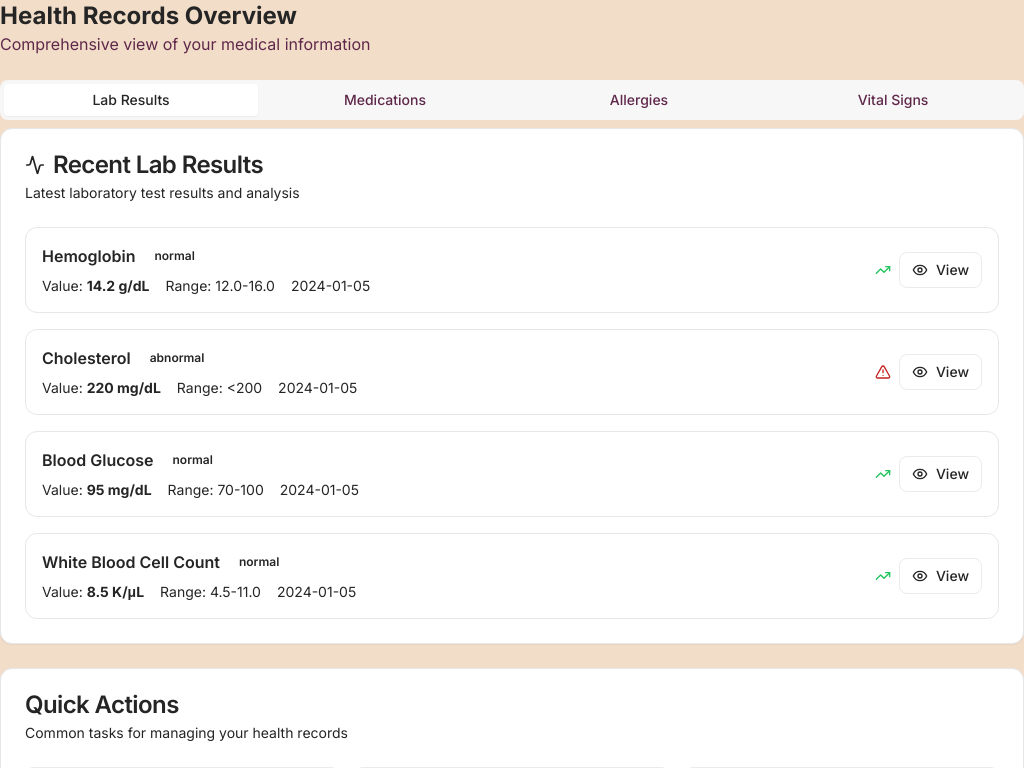
Test case: HealthRecordsOverview › Tab Navigation › should switch to medications tab when clicked
Click the tab "Medications": (385, 100) [258,84,512,116]
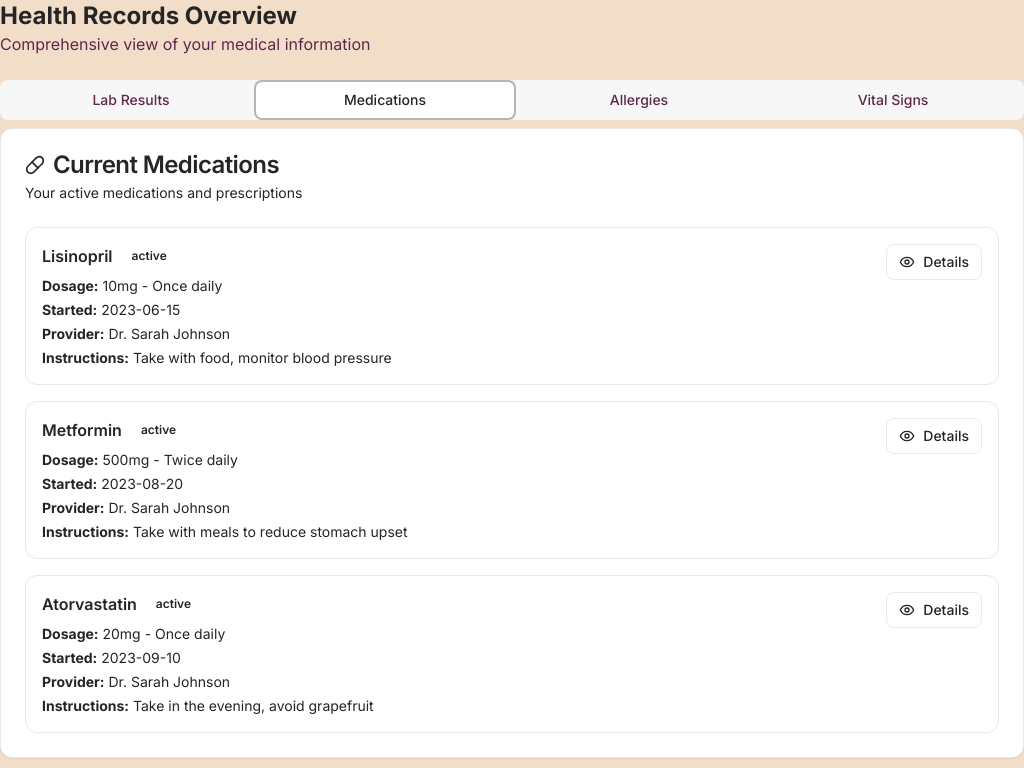
Expected: the heading "Current Medications" is shown, [25,150,279,179]
